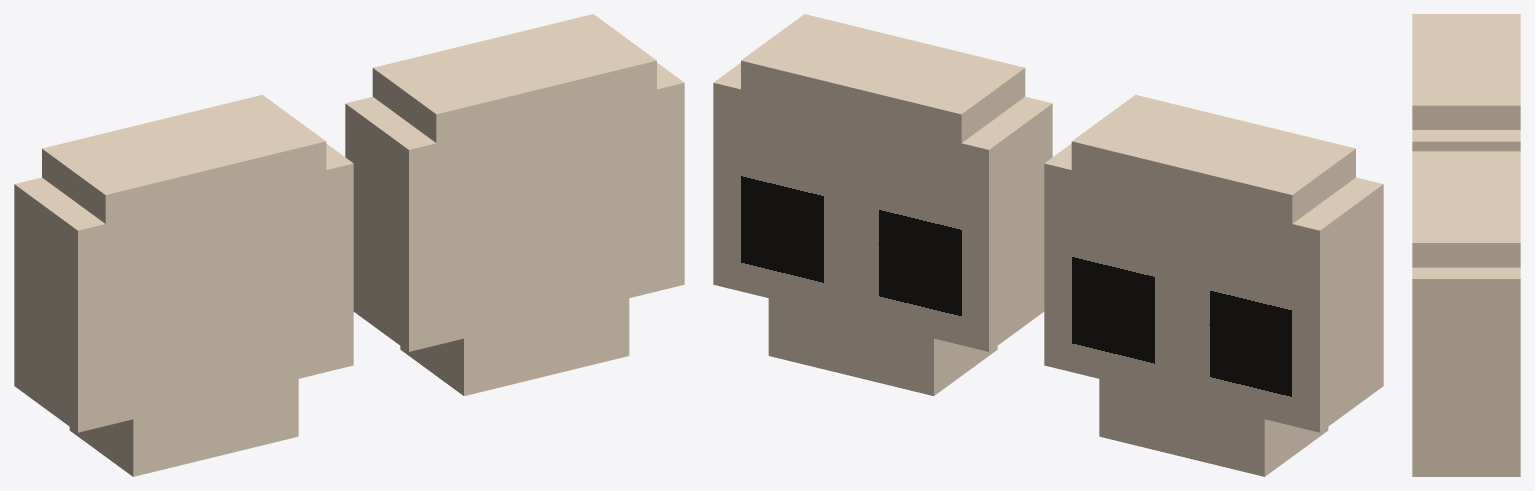
File: footer_skull_2.gltf
The picture shows the model from 3 angles, left to right: view 1: azimuth 30°, elevation 25°; view 2: azimuth 150°, elevation 25°; view 3: azimuth 270°, elevation 25°; orthographic projection. The views are drawn at different scales.
Parts seen in each view (by area): view 1: Skull2_2-Local, Skull2_1-Local; view 2: Skull2_2-Local, Skull2_1-Local; view 3: Skull2_1-Local, Skull2_2-Local.
Boxes of the visible parts, x1=… form: Skull2_2-Local: x1=14, y1=94, x2=353, y2=476; Skull2_1-Local: x1=345, y1=14, x2=684, y2=395; Skull2_2-Local: x1=1044, y1=94, x2=1383, y2=476; Skull2_1-Local: x1=713, y1=14, x2=1052, y2=395; Skull2_1-Local: x1=1412, y1=151, x2=1520, y2=476; Skull2_2-Local: x1=1412, y1=14, x2=1520, y2=151.
Bounding box in the file's own units: 22 × 10 × 4.
2 materials, 2 textured.
